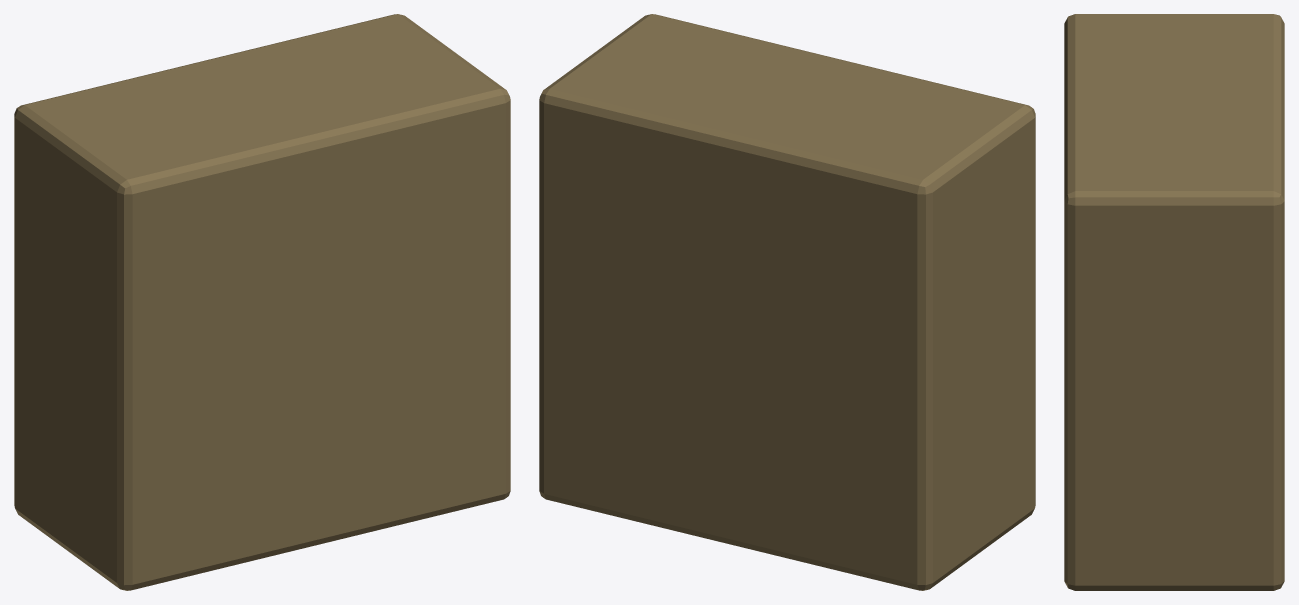
File: SM_Platform_1m_02_D.fbx
3 renders of one model, left to right at view 1: azimuth 30°, elevation 25°; view 2: azimuth 150°, elevation 25°; view 3: azimuth 270°, elevation 25°, orthographic. The views are drawn at different scales.
Parts seen in each view (by area): view 1: polySurface82; view 2: polySurface82; view 3: polySurface82.
Boxes of the visible parts, left/top/right/bottom form: polySurface82: left=14, top=14, right=510, bottom=590; polySurface82: left=539, top=14, right=1035, bottom=590; polySurface82: left=1064, top=14, right=1284, bottom=590.
Size of the model in its own units: 200 by 200 by 100.
